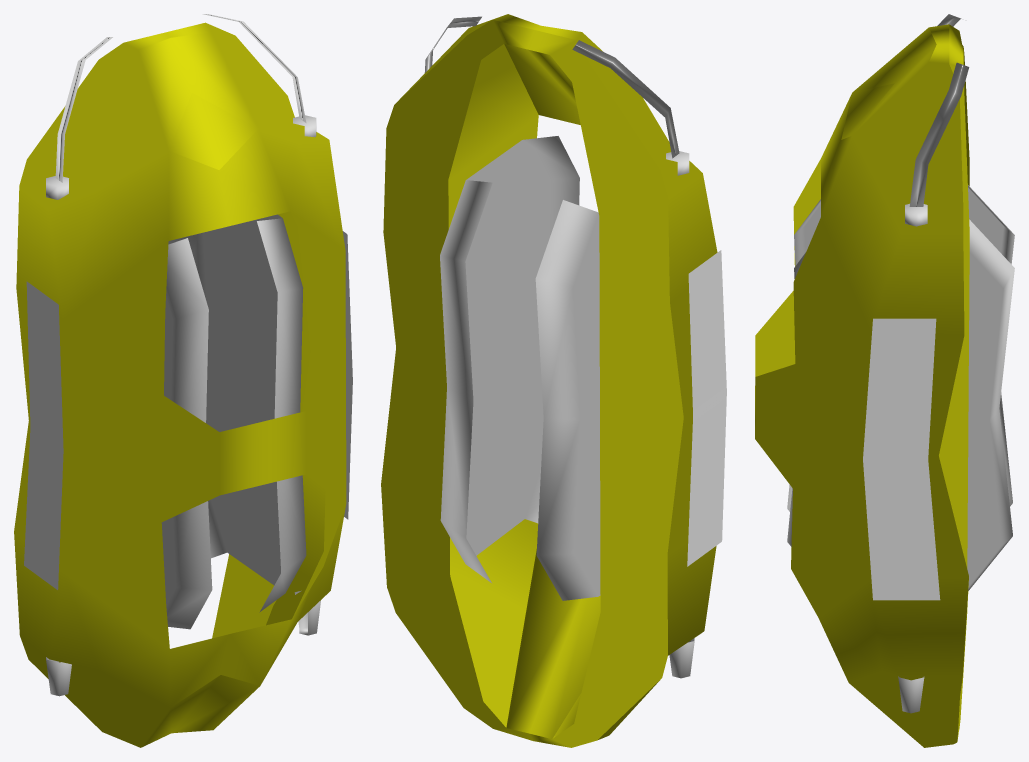
Rendered from Shared_Caliper_Car_MercedesBenz_AMGG63_2017_Caliper03_L_FL.fbx.
The picture shows the model from 3 angles, left to right: view 1: azimuth 30°, elevation 25°; view 2: azimuth 150°, elevation 25°; view 3: azimuth 270°, elevation 25°; orthographic projection. The views are drawn at different scales.
Parts seen in each view (by area): view 1: Car_MercedesBenz_AMGGT_2015_Caliper03_L_FL 1; view 2: Car_MercedesBenz_AMGGT_2015_Caliper03_L_FL 1; view 3: Car_MercedesBenz_AMGGT_2015_Caliper03_L_FL 1.
Part boxes in pixels (x1,y1,x2,y2): Car_MercedesBenz_AMGGT_2015_Caliper03_L_FL 1: [14, 14, 352, 747]; Car_MercedesBenz_AMGGT_2015_Caliper03_L_FL 1: [381, 14, 726, 747]; Car_MercedesBenz_AMGGT_2015_Caliper03_L_FL 1: [755, 14, 1014, 747].
Size of the model in its own units: 0.143 by 0.3305 by 0.1127.
